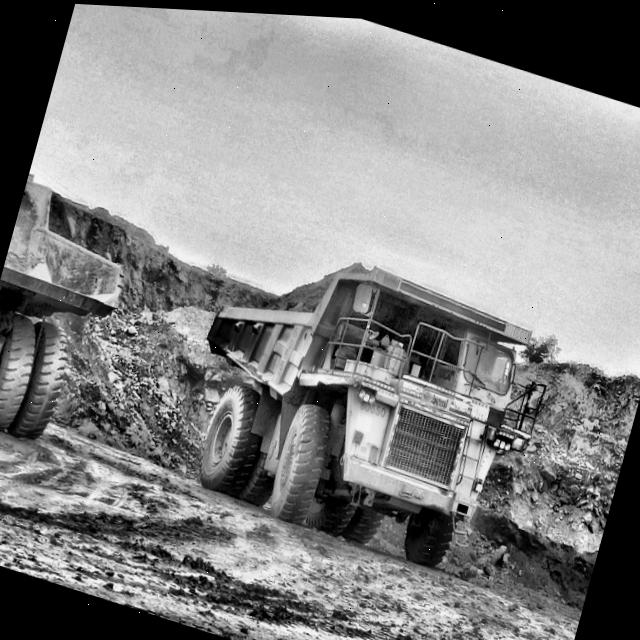dump_truck: (189, 260, 518, 564), (0, 174, 124, 441)
